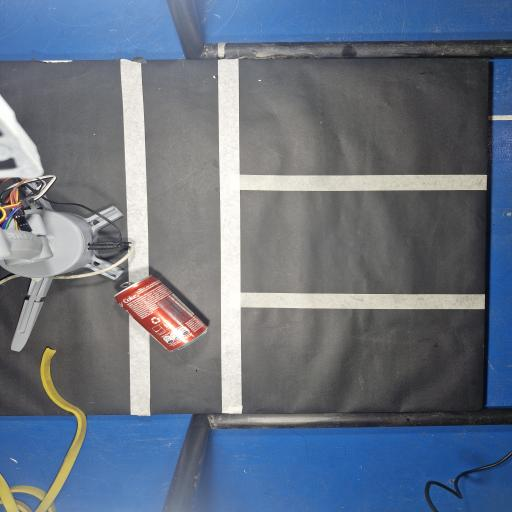lata: (115, 276, 207, 351)
